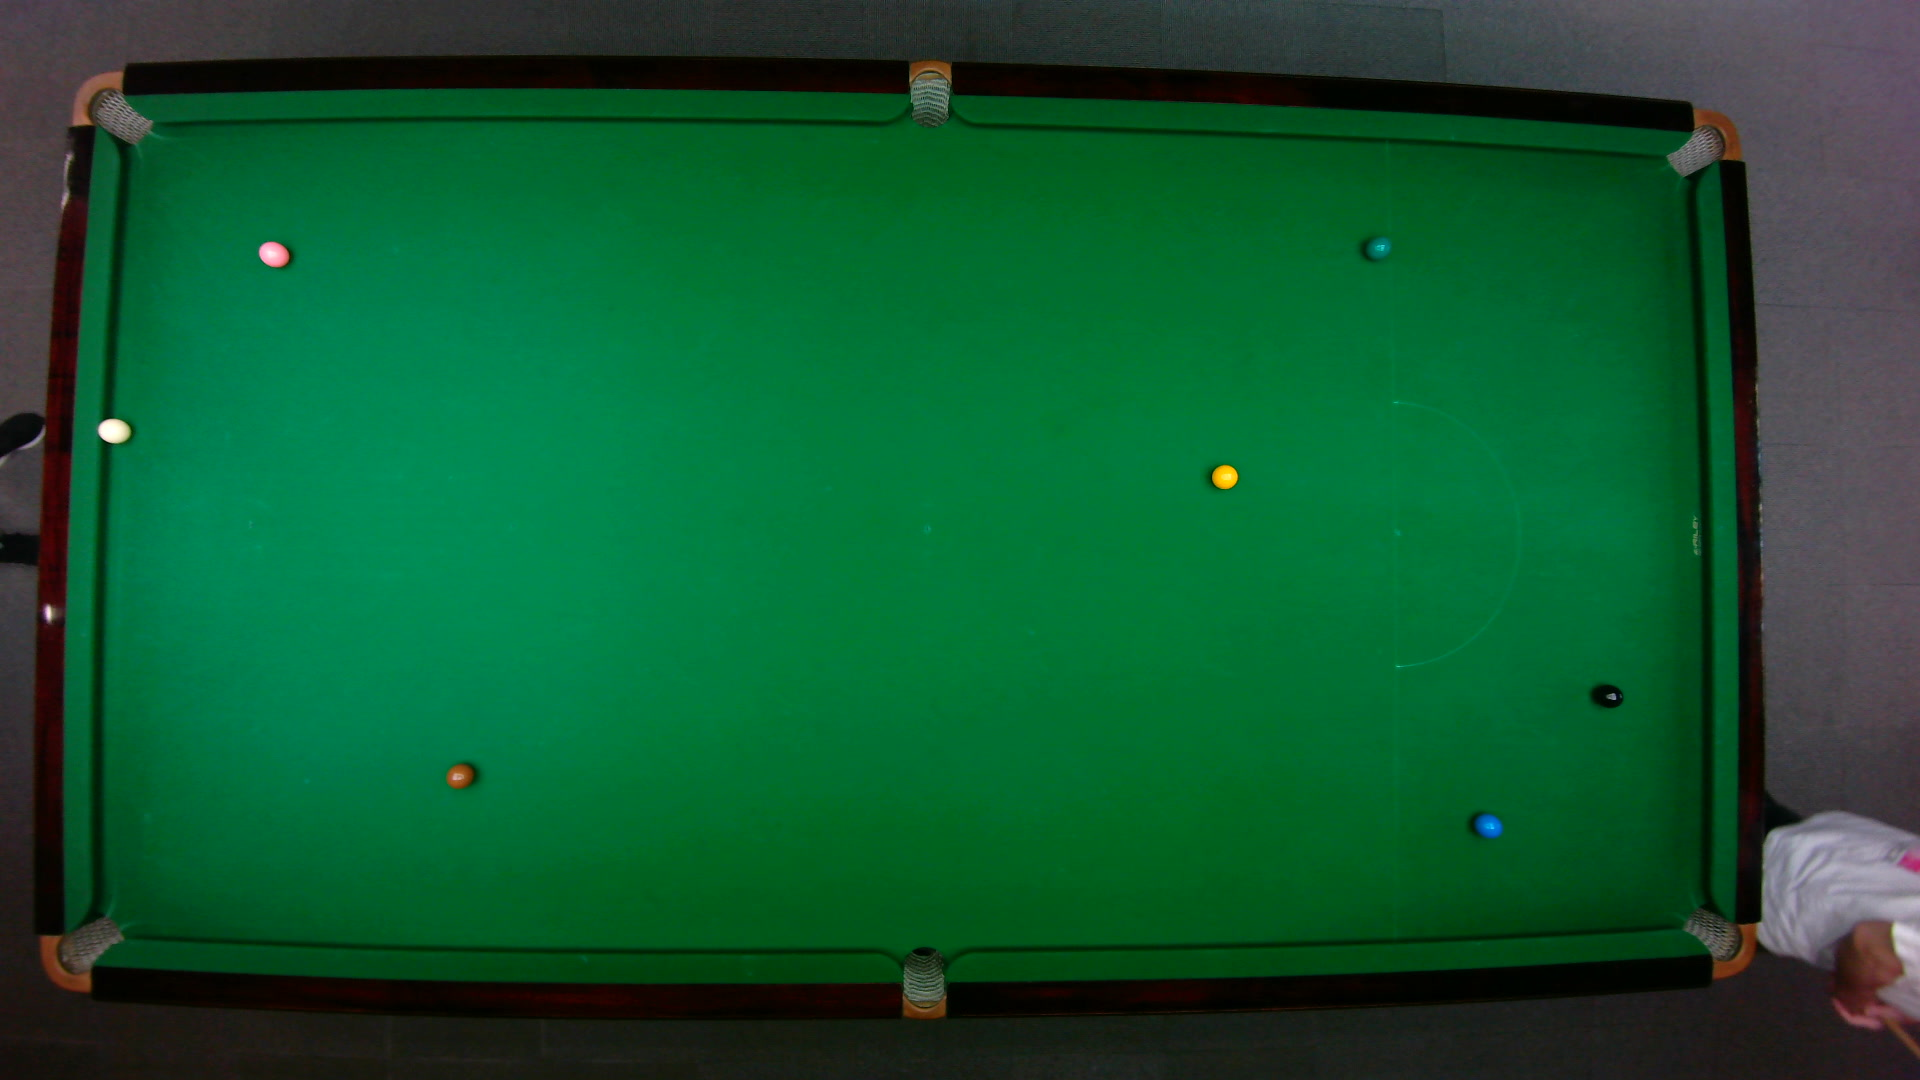bag: (37, 913, 125, 992), (69, 69, 153, 145), (1679, 905, 1756, 978), (1663, 107, 1742, 178), (901, 944, 944, 1021), (909, 57, 949, 128)
black: (1593, 683, 1625, 708)
blue: (1472, 811, 1503, 837)
brown: (444, 761, 475, 789)
green: (1362, 233, 1391, 260)
pink: (256, 237, 290, 268)
white: (95, 415, 132, 444)
yellow: (1209, 462, 1238, 491)
zone: (1390, 400, 1520, 669)
